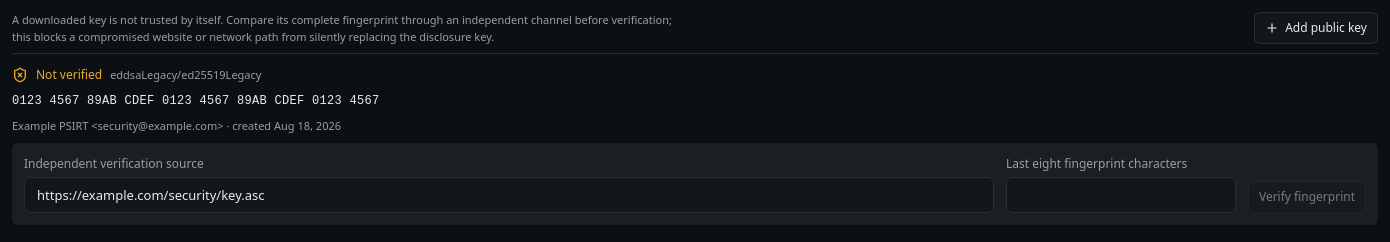
Scenario: vendor trust UI › requires the final fingerprint group before verification
Expected: the button "Verify fingerprint" is disabled, x1=1248 y1=180 x2=1366 y2=212
Type "01234567" into the field labelled "Last eight fingerprint characters" at (1121, 194), box x1=1006 y1=176 x2=1236 y2=212
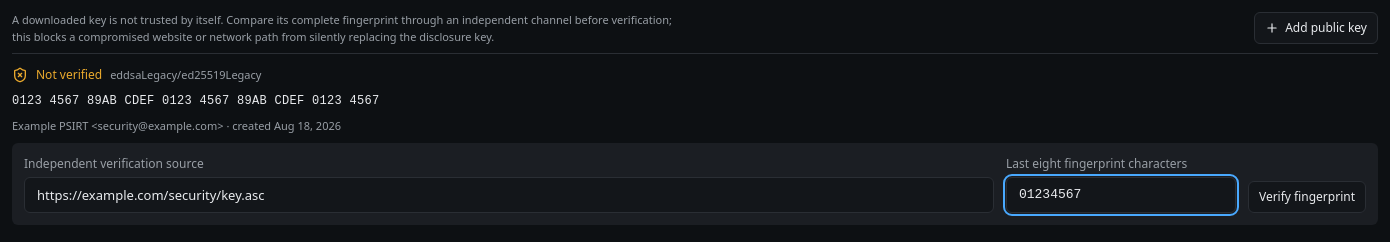
Expected: the button "Verify fingerprint" is enabled, x1=1248 y1=180 x2=1366 y2=212
